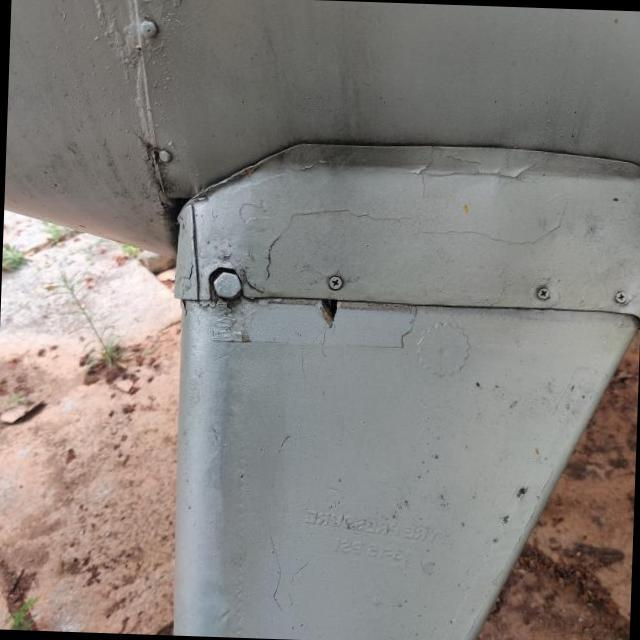Rupture: (294, 286, 356, 344)
